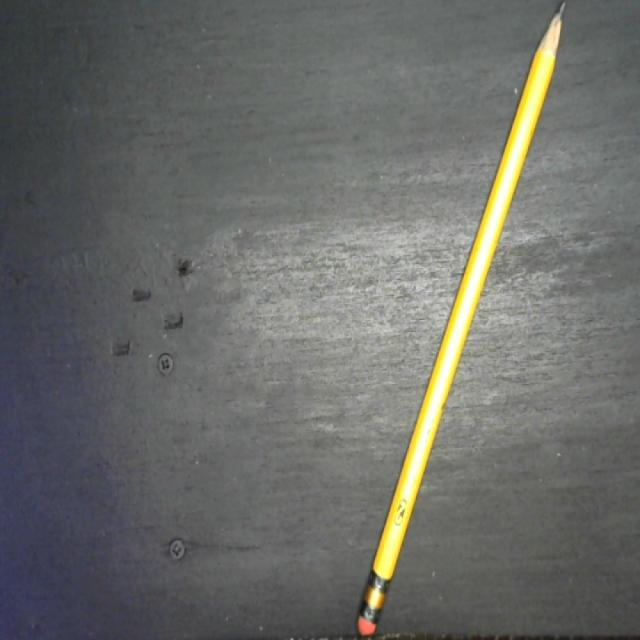biodegradable: (353, 0, 570, 640)
